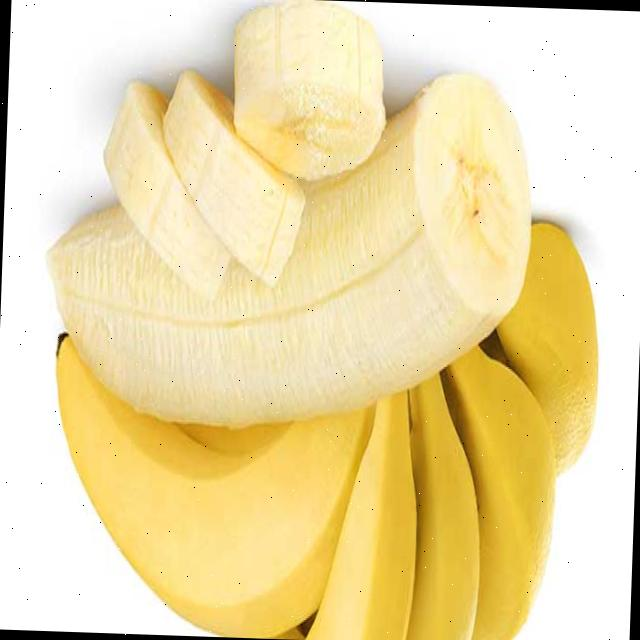Pisang: (40, 58, 537, 440), (45, 327, 561, 640), (156, 68, 312, 292), (99, 80, 238, 306), (228, 0, 390, 187)
